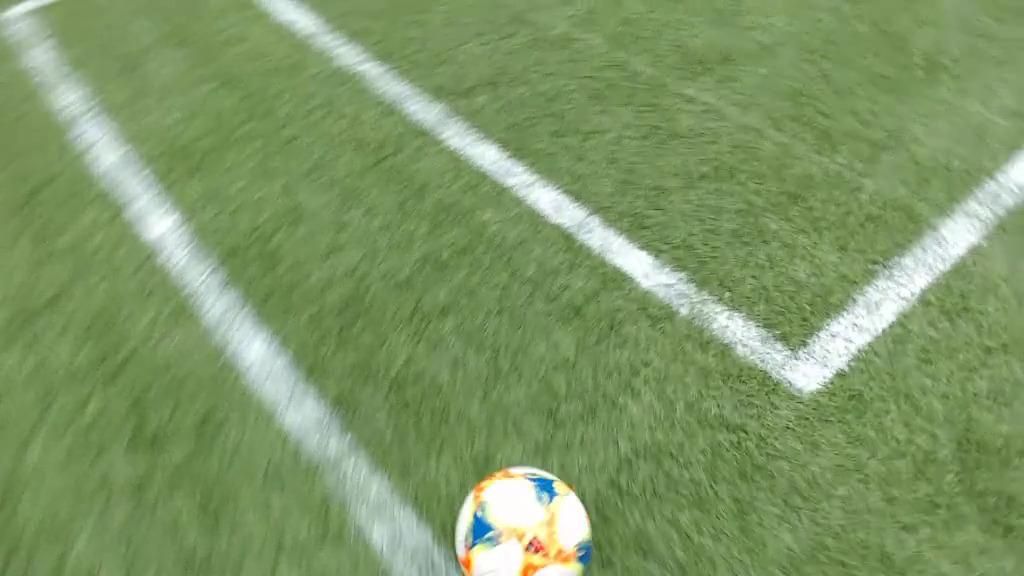ball: (458, 463, 593, 576)
